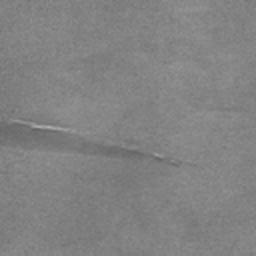Finishing roll printing: (0, 118, 152, 161), (154, 152, 166, 160)
